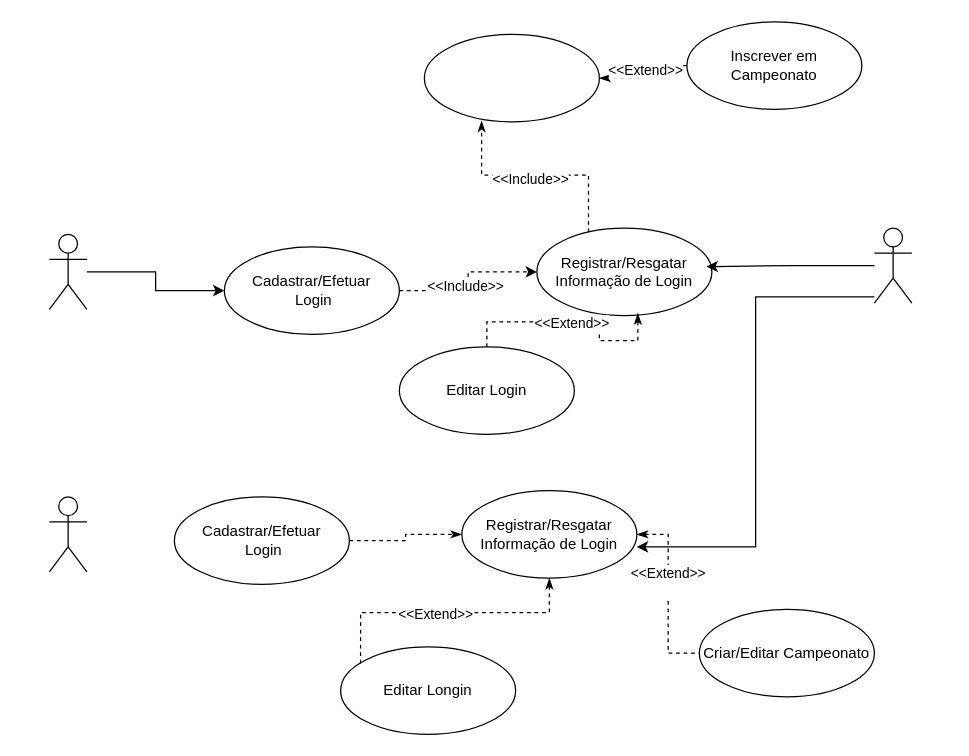
This 969x756 diagram has some shape labels left out. The shapes that lost their labels are listed below. From the top down, each one's centre as x and y in pixels, then its label:
At point 511,77: "Credenciar como Gamer Profissional".
At point 67,271: "usúario".
At point 892,265: "Banco de dados".
At point 67,534: "Administrador".
